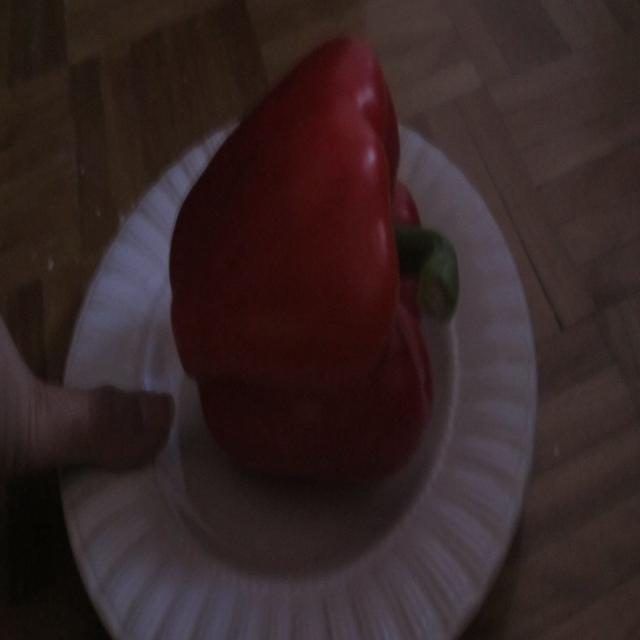Pepper: (167, 34, 457, 487)
